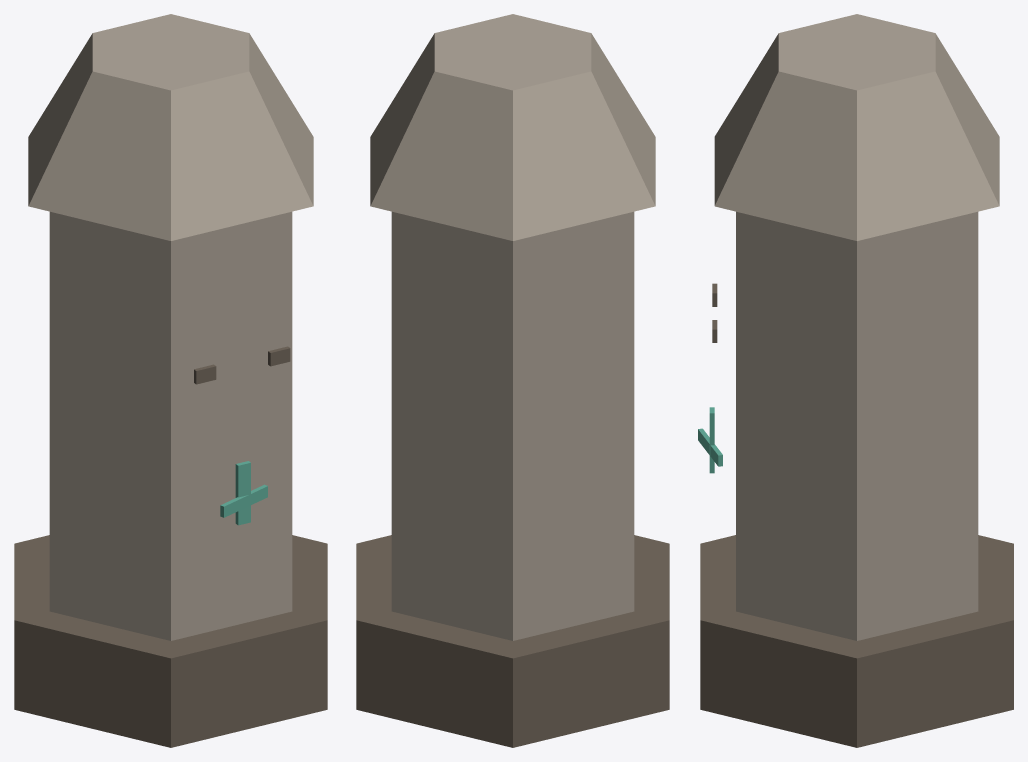
The model's file is StrangeTotem.glb.
3 renders of one model, left to right at view 1: azimuth 30°, elevation 25°; view 2: azimuth 150°, elevation 25°; view 3: azimuth 270°, elevation 25°, orthographic.
Visible parts, largest first — view 1: StrangeTotem_body, StrangeTotem_cap, StrangeTotem_base, StrangeTotem_rune_v, StrangeTotem_rune_h; view 2: StrangeTotem_body, StrangeTotem_cap, StrangeTotem_base; view 3: StrangeTotem_body, StrangeTotem_cap, StrangeTotem_base.
Boxes of the visible parts, left/top/right/bottom form: StrangeTotem_body: left=49, top=211, right=292, bottom=640; StrangeTotem_cap: left=28, top=14, right=313, bottom=240; StrangeTotem_base: left=14, top=535, right=327, bottom=747; StrangeTotem_rune_v: left=235, top=461, right=250, bottom=525; StrangeTotem_rune_h: left=220, top=484, right=267, bottom=517; StrangeTotem_body: left=391, top=211, right=634, bottom=640; StrangeTotem_cap: left=370, top=14, right=655, bottom=240; StrangeTotem_base: left=356, top=535, right=669, bottom=747; StrangeTotem_body: left=736, top=211, right=978, bottom=640; StrangeTotem_cap: left=714, top=14, right=999, bottom=240; StrangeTotem_base: left=700, top=535, right=1013, bottom=747.
Size of the model in its own units: 0.44 by 0.83 by 0.3837.
